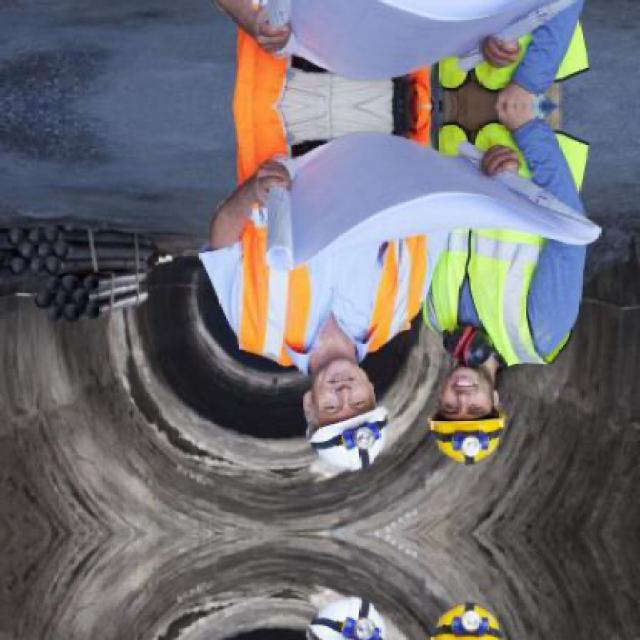con casco: (411, 367, 524, 485), (291, 375, 393, 483)
